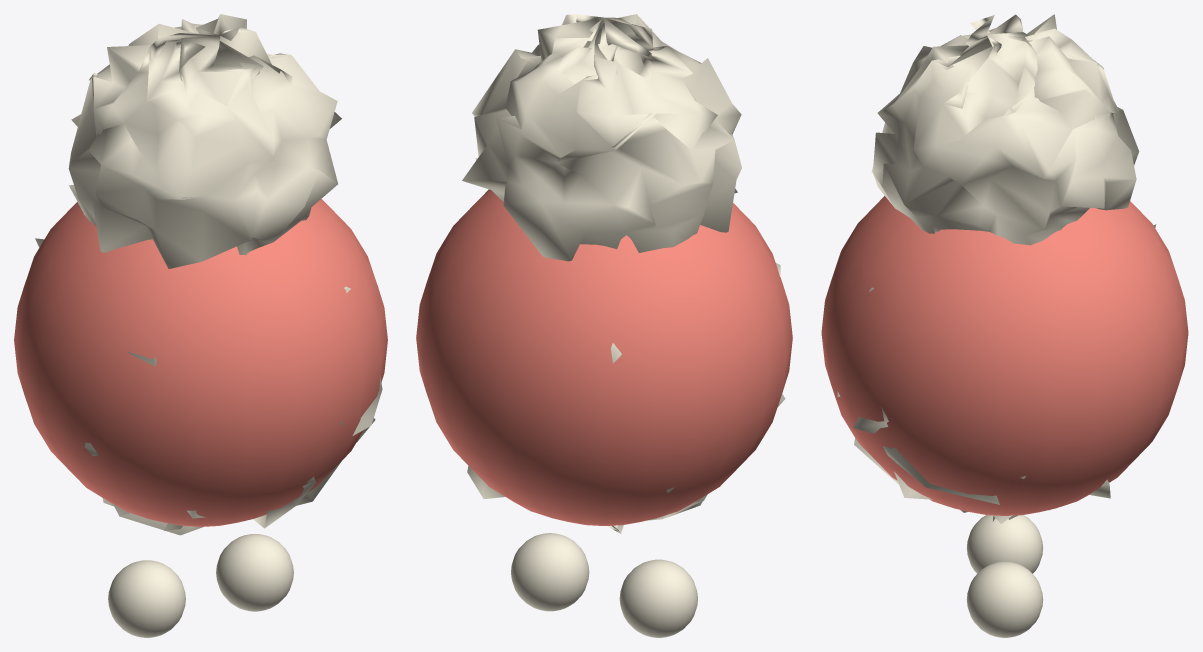
The model's file is clay_cappuccina_ballerina.glb.
3 renders of one model, left to right at view 1: azimuth 30°, elevation 25°; view 2: azimuth 150°, elevation 25°; view 3: azimuth 270°, elevation 25°, orthographic. The views are drawn at different scales.
Parts seen in each view (by area): view 1: tutu; view 2: tutu; view 3: tutu.
Part boxes in pixels (<box>): tutu: <box>14,14,387,637</box>; tutu: <box>416,14,792,637</box>; tutu: <box>821,14,1188,637</box>.
Bounding box in the file's own units: 1.2 × 2.1 × 1.2.
